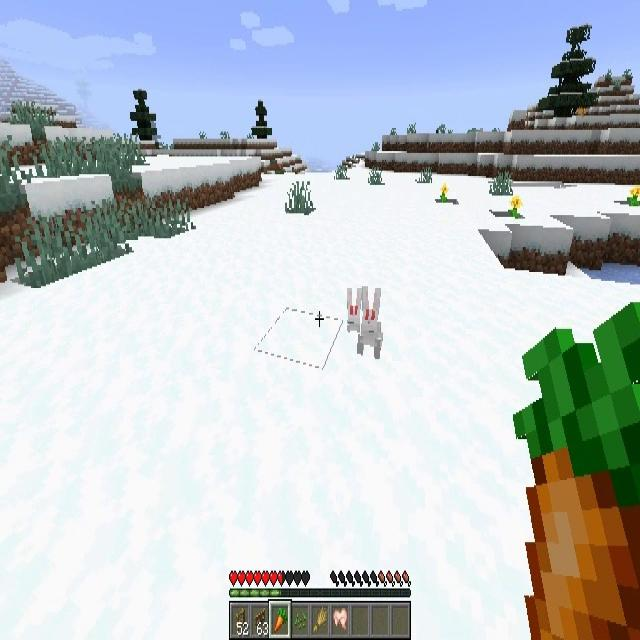rabbit: (359, 288, 386, 352), (345, 288, 360, 334)
